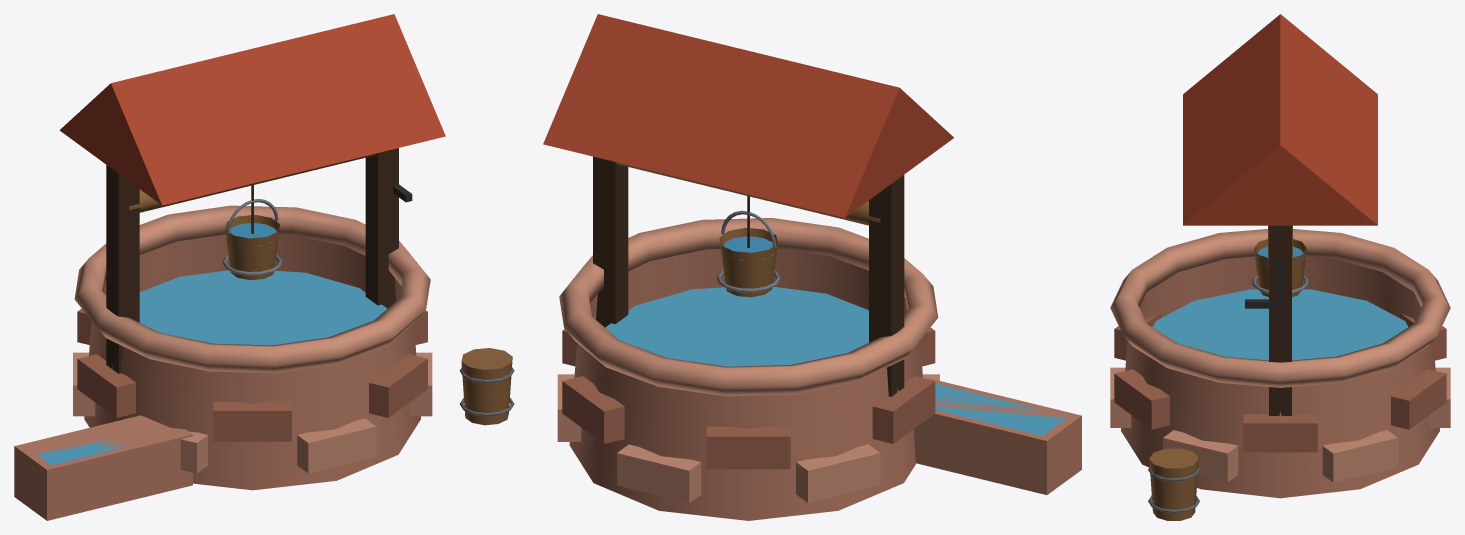
The model's file is brunnen.glb.
The picture shows the model from 3 angles, left to right: view 1: azimuth 30°, elevation 25°; view 2: azimuth 150°, elevation 25°; view 3: azimuth 270°, elevation 25°; orthographic projection. The views are drawn at different scales.
Size of the model in its own units: 2.85 by 2.18 by 1.92.
